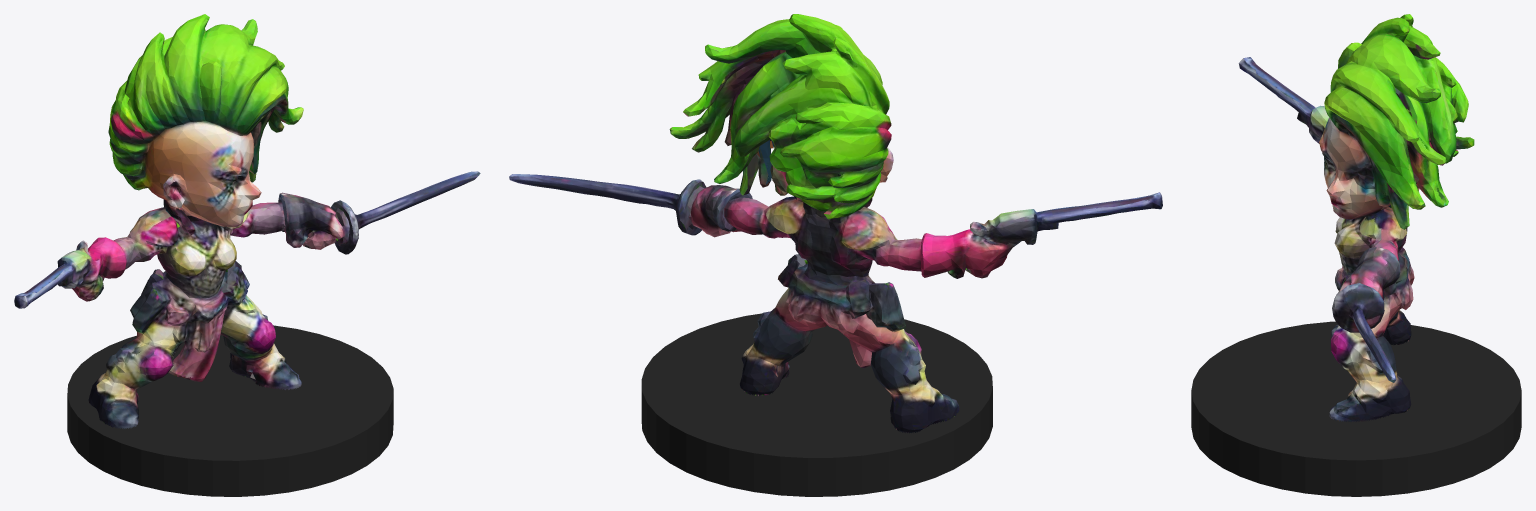
Rendered from escher-death-maiden-needle-pistol.glb.
The picture shows the model from 3 angles, left to right: view 1: azimuth 30°, elevation 25°; view 2: azimuth 150°, elevation 25°; view 3: azimuth 270°, elevation 25°; orthographic projection. The views are drawn at different scales.
Visible parts, largest first — view 1: figure, base; view 2: figure, base; view 3: base, figure.
Part boxes in pixels (x1,y1,x2,y2): figure: (14, 14, 480, 428); base: (67, 325, 393, 496); figure: (509, 14, 1162, 433); base: (641, 313, 992, 496); base: (1191, 321, 1521, 496); figure: (1238, 14, 1474, 421).
Bounding box in the file's own units: 1.86 × 1.32 × 0.9843.
2 materials, 1 textured.
